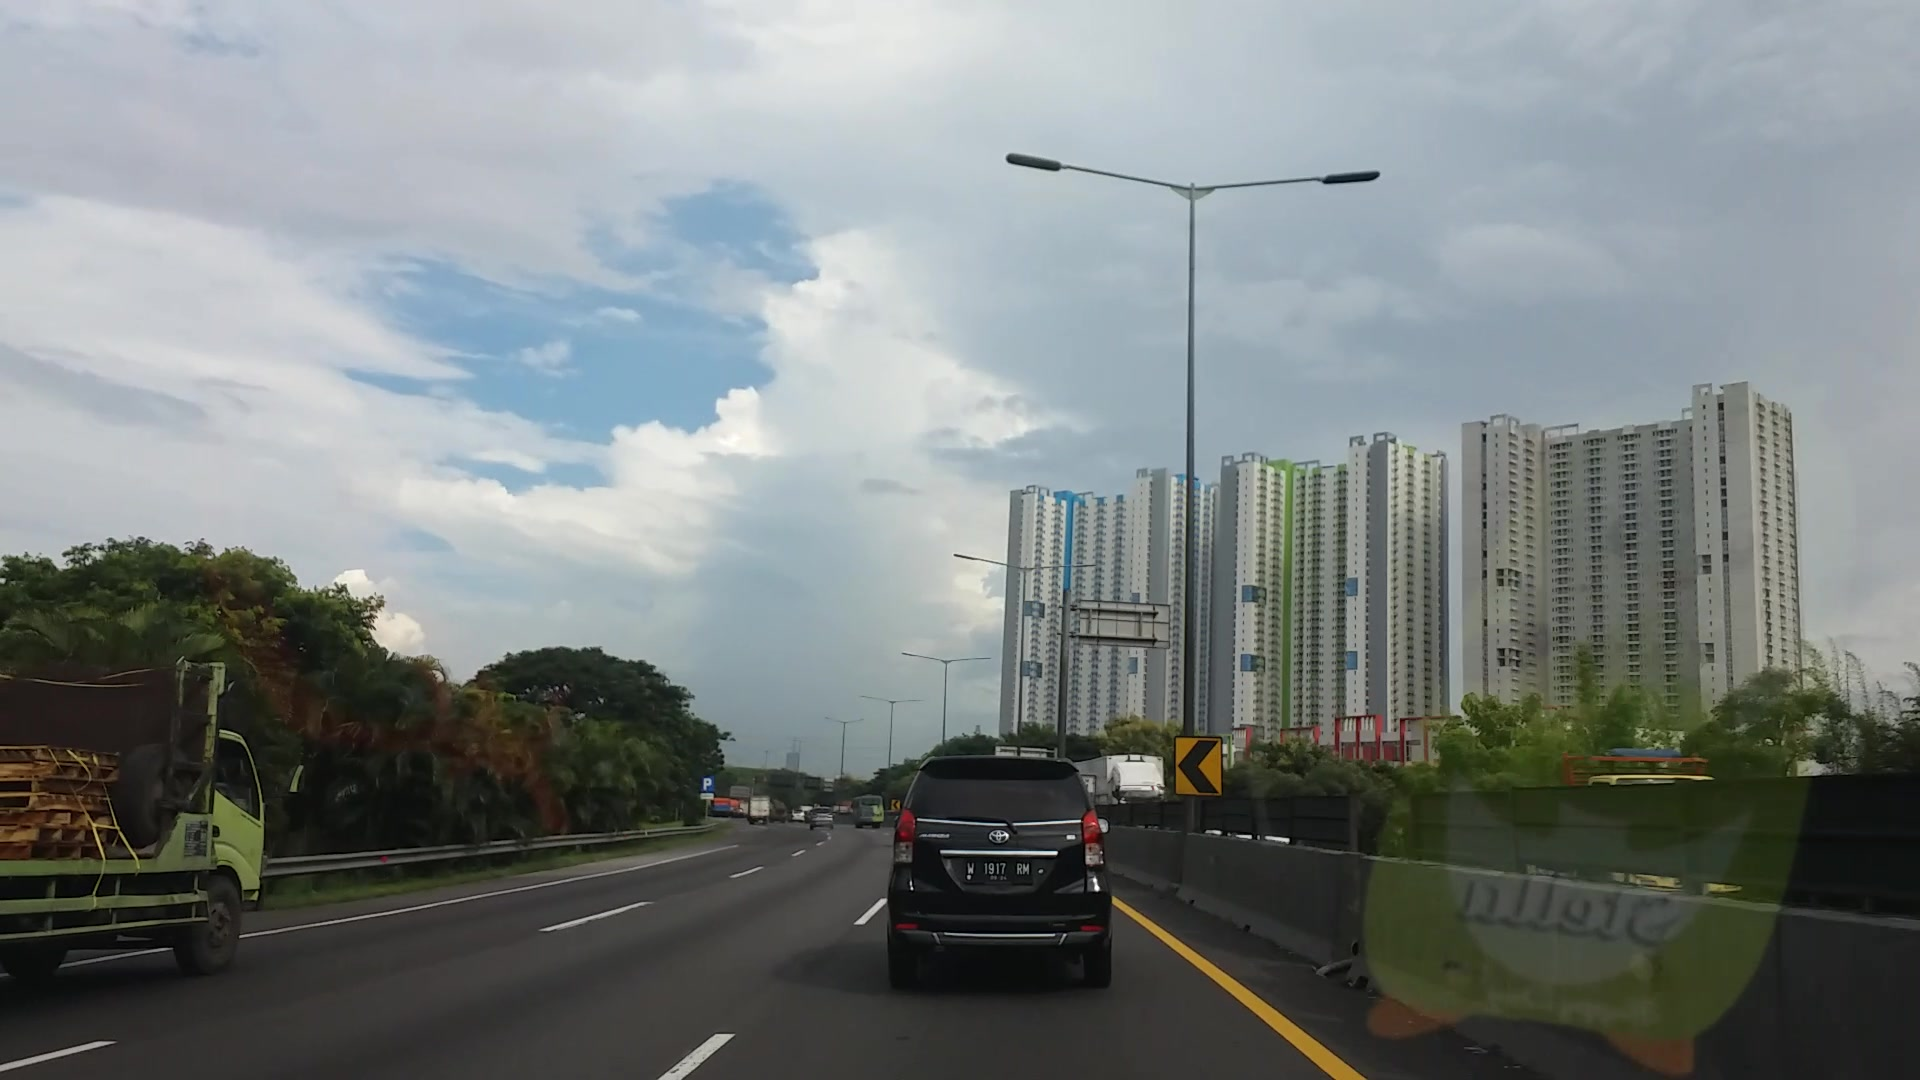plate_positive: (963, 858, 1033, 884)
